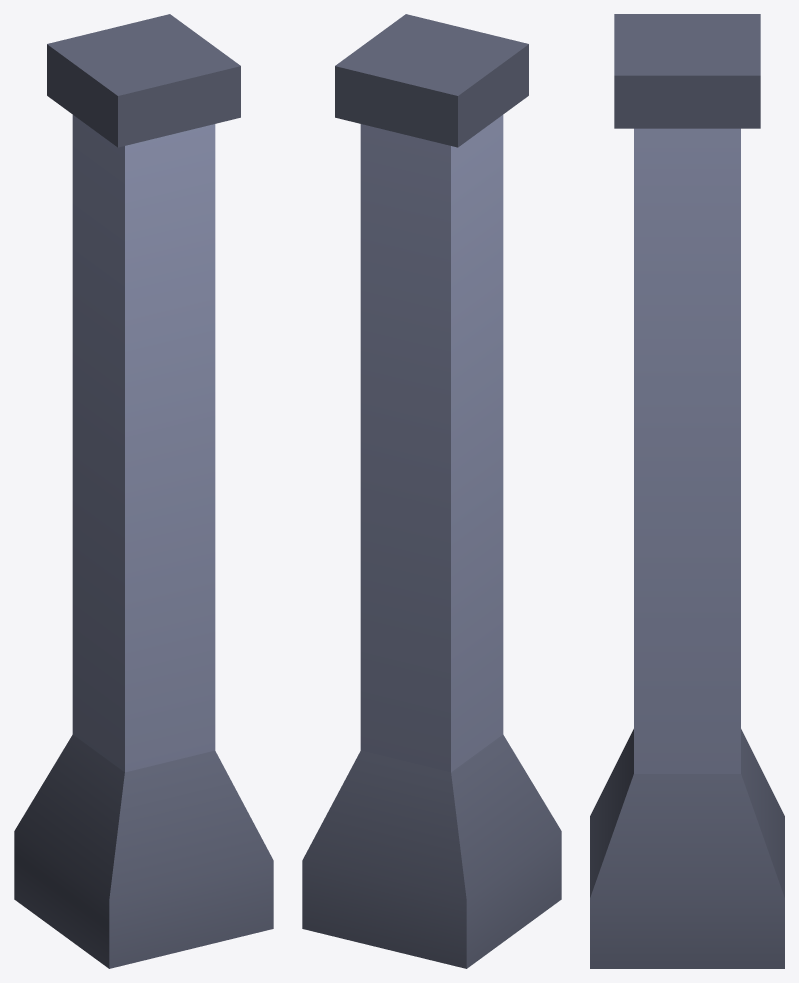
File: bridge_pillar.glb
3 views of the same model, side by side, from view 1: azimuth 30°, elevation 25°; view 2: azimuth 150°, elevation 25°; view 3: azimuth 270°, elevation 25° (orthographic). The views are drawn at different scales.
Visible parts, largest first — view 1: bridge-pillar; view 2: bridge-pillar; view 3: bridge-pillar.
Boxes of the visible parts, x1,y1,x2,y2 form: bridge-pillar: (14, 14, 273, 968); bridge-pillar: (302, 14, 561, 968); bridge-pillar: (590, 14, 784, 968).
Bounding box in the file's own units: 0.1 × 0.5 × 0.1.
Materials: 1 (1 with a texture image).
